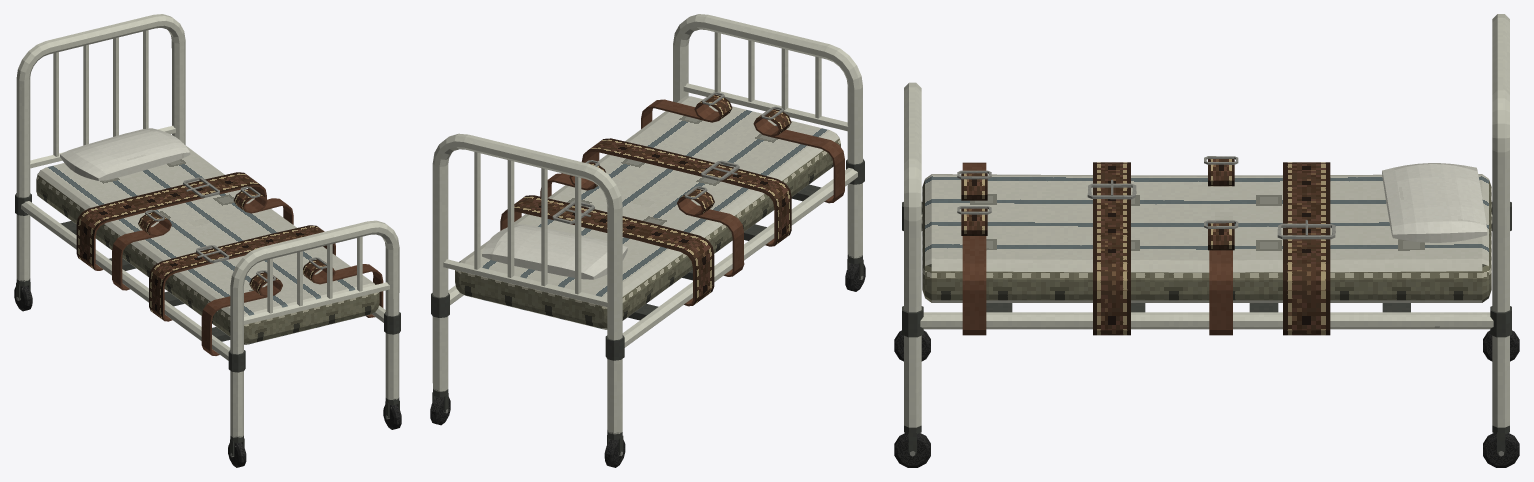
The model's file is medical_bed.glb.
3 views of the same model, side by side, from view 1: azimuth 30°, elevation 25°; view 2: azimuth 150°, elevation 25°; view 3: azimuth 270°, elevation 25° (orthographic). The views are drawn at different scales.
Visible parts, largest first — view 1: mattress, head_frame, foot_frame, pillow, strap_chest_band, strap_thighs_band, rail_side_l, foot_rail_low, cuff_ankle_l_anchor, cuff_wrist_l_anchor, head_bar_0, head_bar_1 (+7 smaller); view 2: mattress, head_frame, foot_frame, strap_chest_band, pillow, strap_thighs_band, rail_side_l, head_rail_low, cuff_ankle_l_anchor, foot_rail_low, cuff_wrist_l_anchor, head_bar_2 (+8 smaller); view 3: mattress, strap_chest_band, rail_side_r, pillow, head_frame, strap_thighs_band, foot_frame, cuff_ankle_r_anchor, cuff_wrist_r_anchor, wheel_head_r, wheel_foot_r, cuff_ankle_l_loop (+3 smaller).
Boxes of the visible parts, x1=… form: mattress: x1=36, y1=145, x2=379, y2=344; head_frame: x1=16, y1=14, x2=185, y2=281; foot_frame: x1=230, y1=220, x2=399, y2=437; pillow: x1=60, y1=128, x2=190, y2=180; strap_chest_band: x1=76, y1=172, x2=266, y2=270; strap_thighs_band: x1=149, y1=225, x2=335, y2=321; rail_side_l: x1=21, y1=201, x2=230, y2=360; foot_rail_low: x1=243, y1=282, x2=389, y2=324; cuff_ankle_l_anchor: x1=201, y1=290, x2=266, y2=355; cuff_wrist_l_anchor: x1=112, y1=230, x2=155, y2=290; head_bar_0: x1=53, y1=52, x2=58, y2=156; head_bar_1: x1=83, y1=44, x2=88, y2=145; mattress: x1=455, y1=96, x2=840, y2=329; head_frame: x1=432, y1=133, x2=622, y2=434; foot_frame: x1=673, y1=14, x2=862, y2=258; strap_chest_band: x1=500, y1=195, x2=714, y2=306; pillow: x1=482, y1=224, x2=627, y2=279; strap_thighs_band: x1=581, y1=138, x2=791, y2=246; rail_side_l: x1=622, y1=168, x2=857, y2=347; head_rail_low: x1=443, y1=259, x2=607, y2=307; cuff_ankle_l_anchor: x1=768, y1=129, x2=844, y2=203; foot_rail_low: x1=683, y1=83, x2=848, y2=131; cuff_wrist_l_anchor: x1=691, y1=209, x2=744, y2=276; head_bar_2: x1=507, y1=160, x2=514, y2=277; mattress: x1=922, y1=174, x2=1491, y2=302; strap_chest_band: x1=1283, y1=162, x2=1330, y2=335; rail_side_r: x1=920, y1=312, x2=1493, y2=329; pillow: x1=1382, y1=163, x2=1487, y2=242; head_frame: x1=1492, y1=14, x2=1509, y2=427; strap_thighs_band: x1=1093, y1=162, x2=1130, y2=335; foot_frame: x1=904, y1=82, x2=921, y2=427; cuff_ankle_r_anchor: x1=962, y1=236, x2=986, y2=335; cuff_wrist_r_anchor: x1=1209, y1=250, x2=1232, y2=335; wheel_head_r: x1=1483, y1=433, x2=1519, y2=467; wheel_foot_r: x1=894, y1=433, x2=930, y2=467; cuff_ankle_l_loop: x1=961, y1=173, x2=987, y2=200.
Bounding box in the file's own units: 0.9053 × 1.31 × 2.06.
1 material, 1 textured.
